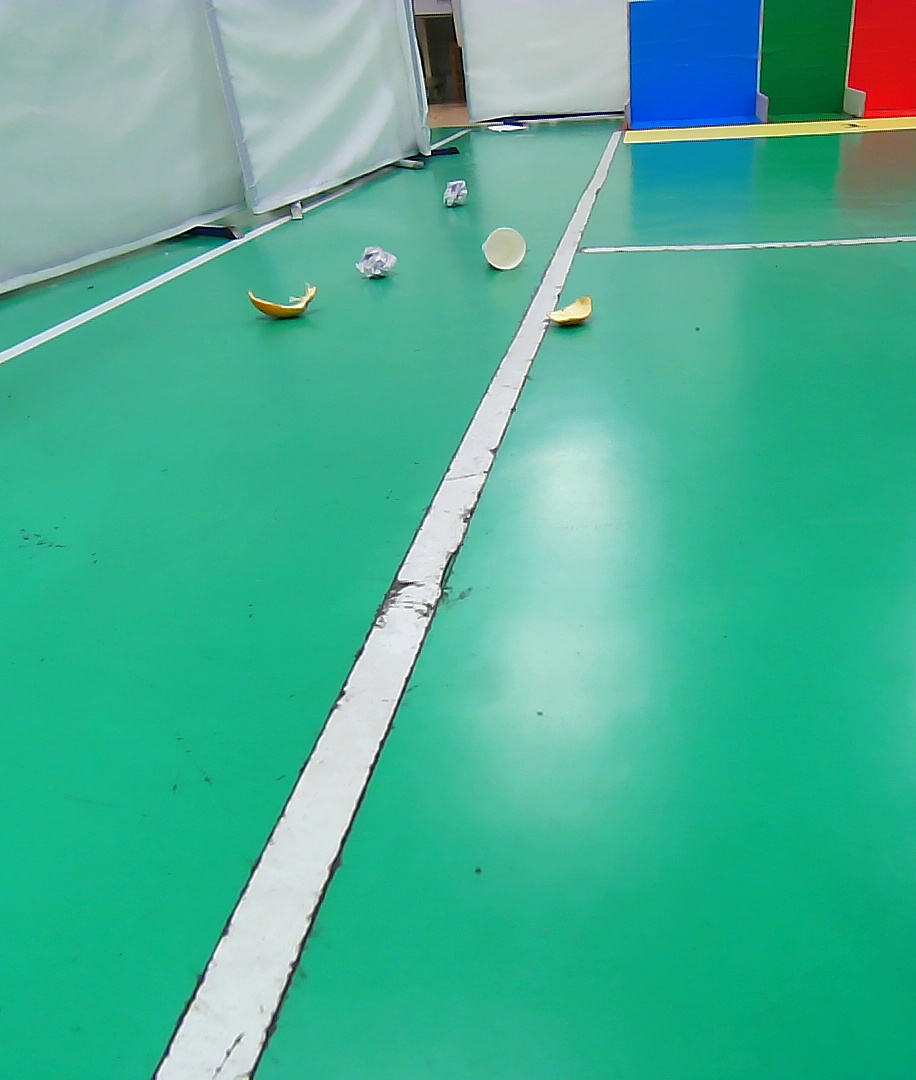orangepeel: (242, 277, 321, 327), (536, 290, 601, 335)
papercup: (479, 225, 527, 271)
spitball: (351, 242, 402, 286), (440, 178, 470, 209)
